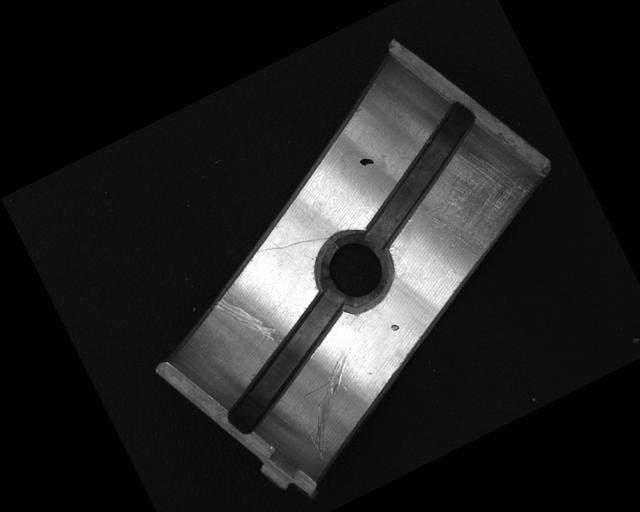blot: (357, 154, 375, 170)
bruise: (388, 321, 400, 333)
gap: (331, 96, 509, 249), (194, 288, 374, 438)
hole: (302, 217, 405, 321)
nick: (282, 353, 384, 463), (211, 281, 283, 362), (253, 219, 329, 271)
scratch: (409, 129, 558, 279)
